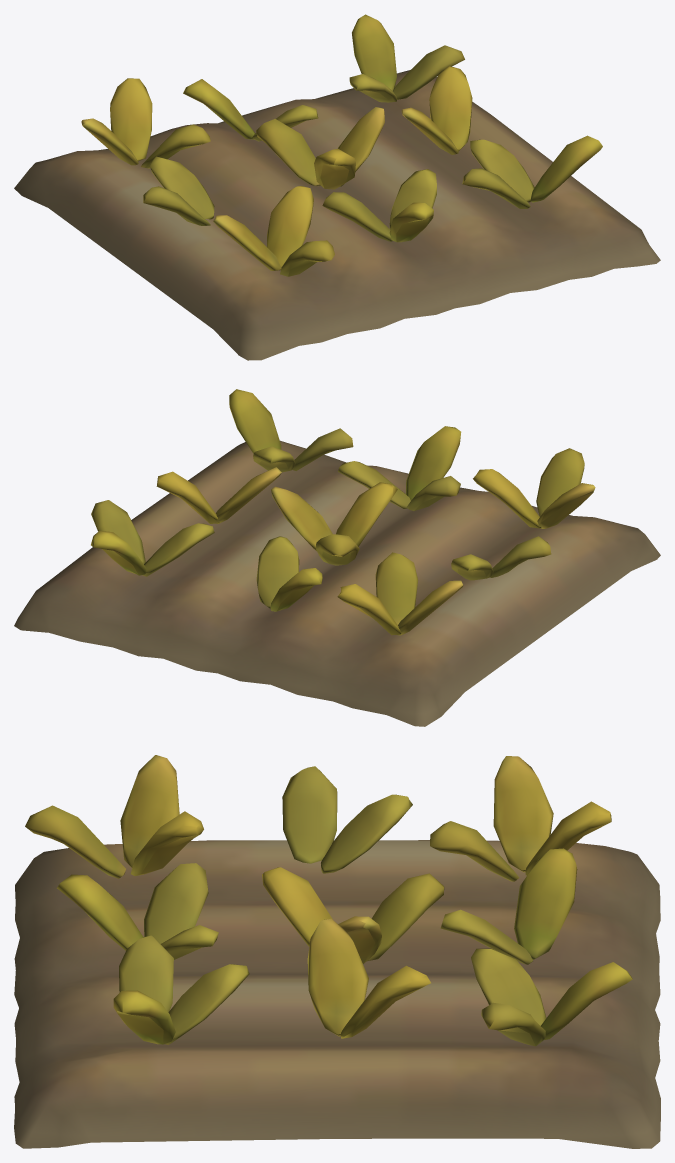
The model's file is SM_Crop_Wheat_01.glb.
3 views of the same model, one above another, from view 1: azimuth 30°, elevation 25°; view 2: azimuth 150°, elevation 25°; view 3: azimuth 270°, elevation 25° (orthographic). The views are drawn at different scales.
Parts seen in each view (by area): view 1: SM_Crop_Wheat_01; view 2: SM_Crop_Wheat_01; view 3: SM_Crop_Wheat_01.
Part boxes in pixels (box(x1,y1,x2,y2)): SM_Crop_Wheat_01: box(14, 14, 660, 360); SM_Crop_Wheat_01: box(14, 389, 660, 726); SM_Crop_Wheat_01: box(14, 755, 660, 1148).
Size of the model in its own units: 3.94 by 0.9336 by 3.93.
Materials: 1 (1 with a texture image).
